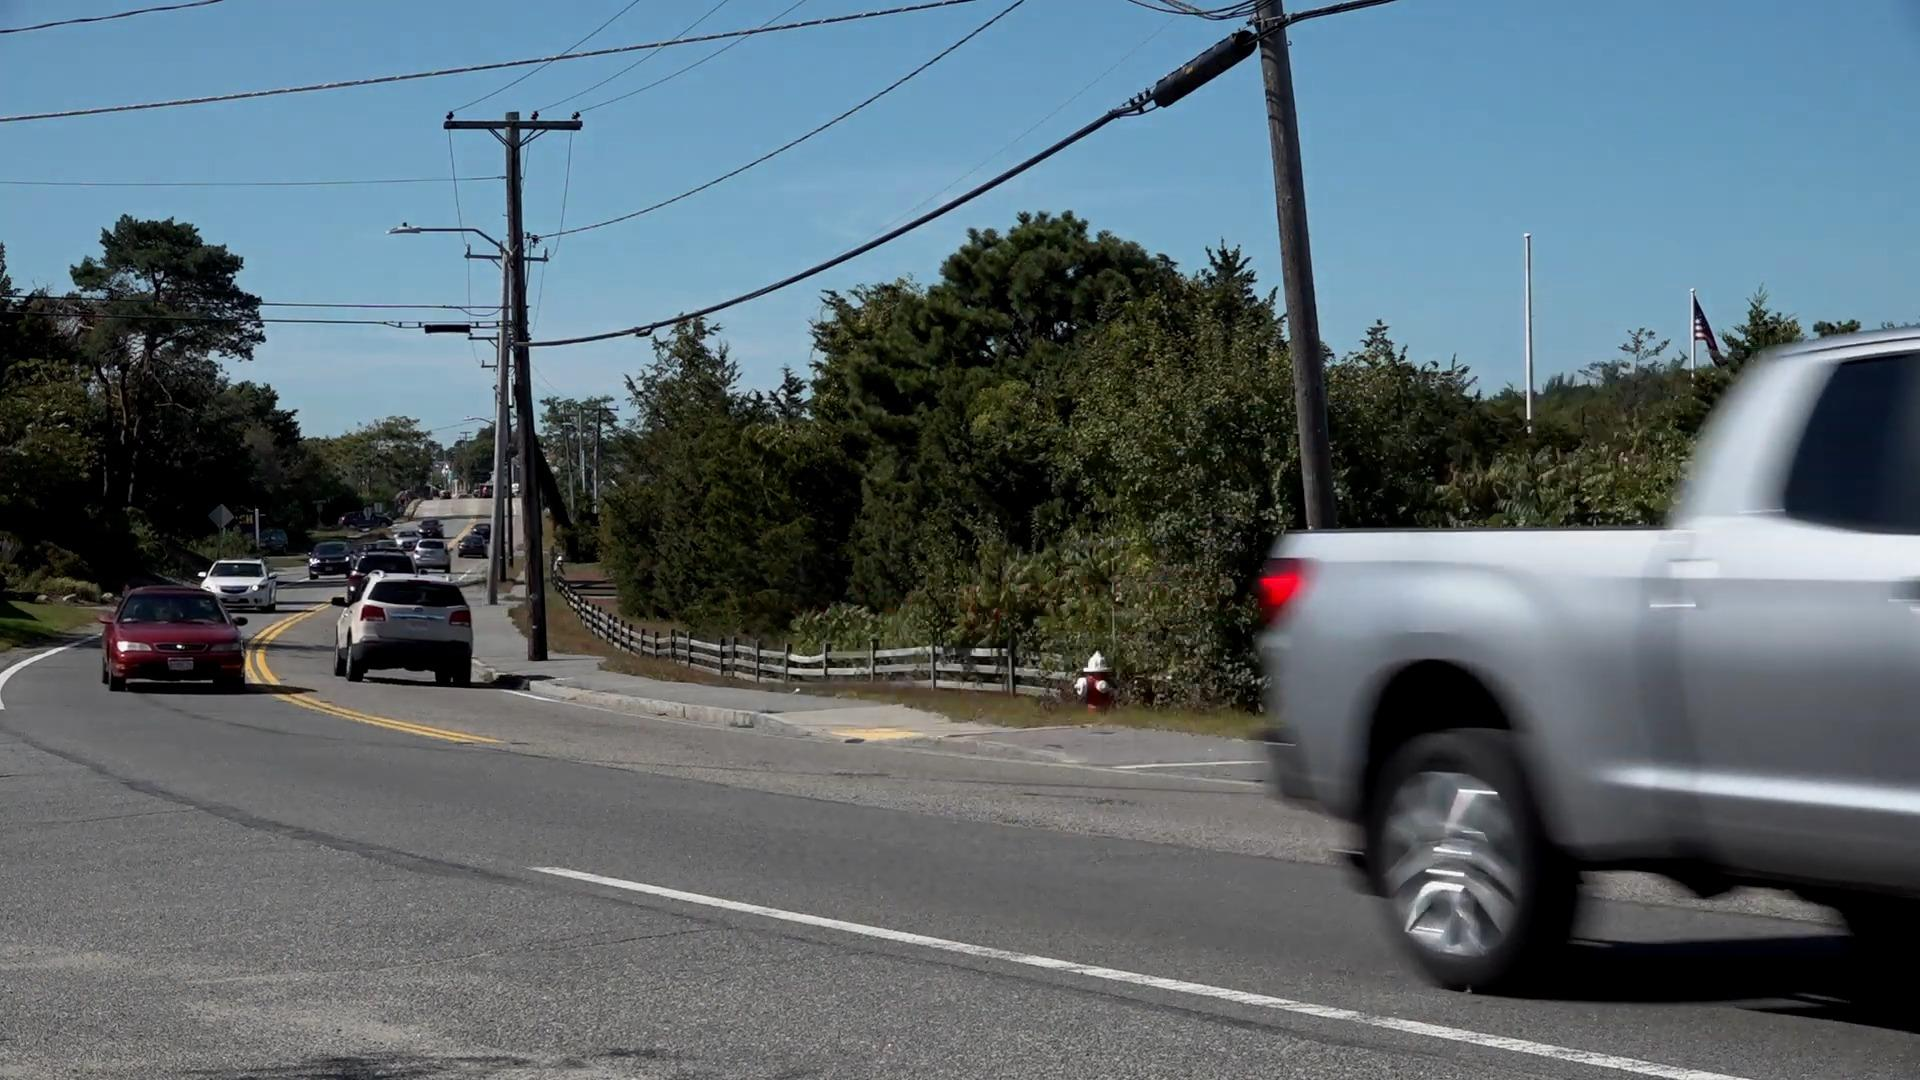pickup: (1262, 314, 1920, 997)
sedans: (102, 575, 243, 691)
suv: (328, 568, 473, 688)
